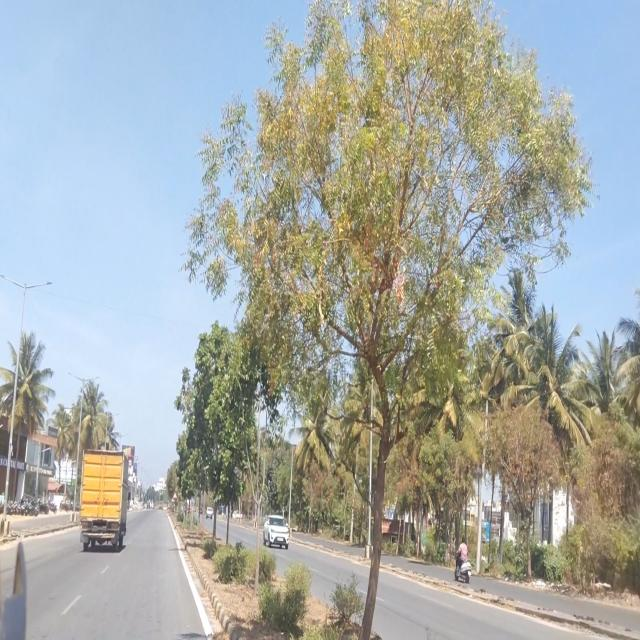bien_cam: (172, 490, 178, 503)
